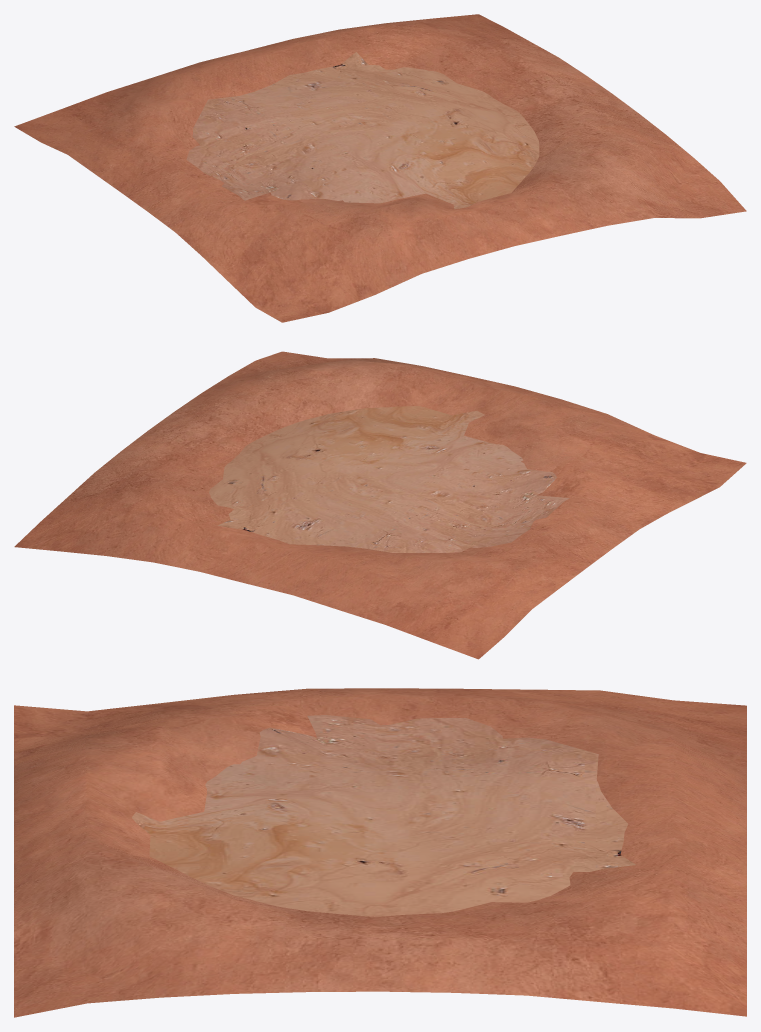
File: ClayPit.fbx
3 renders of one model, top to bottom at view 1: azimuth 30°, elevation 25°; view 2: azimuth 150°, elevation 25°; view 3: azimuth 270°, elevation 25°, orthographic. The views are drawn at different scales.
Parts seen in each view (by area): view 1: pPlane1, pPlane2; view 2: pPlane1, pPlane2; view 3: pPlane1, pPlane2.
Part boxes in pixels (x1=…): pPlane1: x1=14, y1=14, x2=746, y2=322; pPlane2: x1=186, y1=52, x2=539, y2=209; pPlane1: x1=14, y1=351, x2=746, y2=659; pPlane2: x1=209, y1=406, x2=569, y2=552; pPlane1: x1=14, y1=688, x2=746, y2=1017; pPlane2: x1=132, y1=715, x2=635, y2=916.
Size of the model in its own units: 370 by 33.91 by 370.
2 materials, 2 textured.
